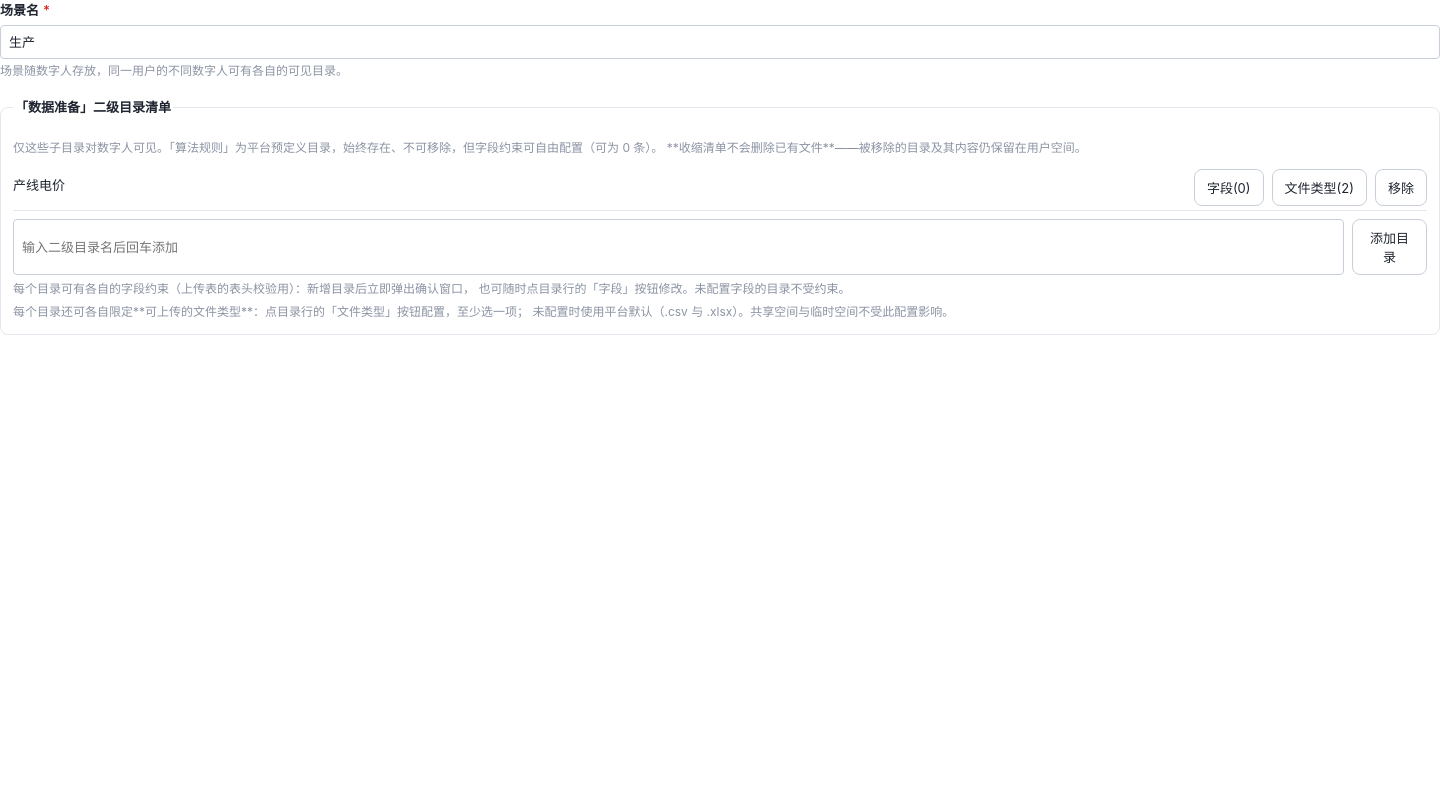
Test case: ScenarioEditor › 字段名非法 / 重复时禁用保存（后端仍是权威判定）
Click the button with test id "field-产线电价" at (1229, 188), box [1194,169,1264,206]
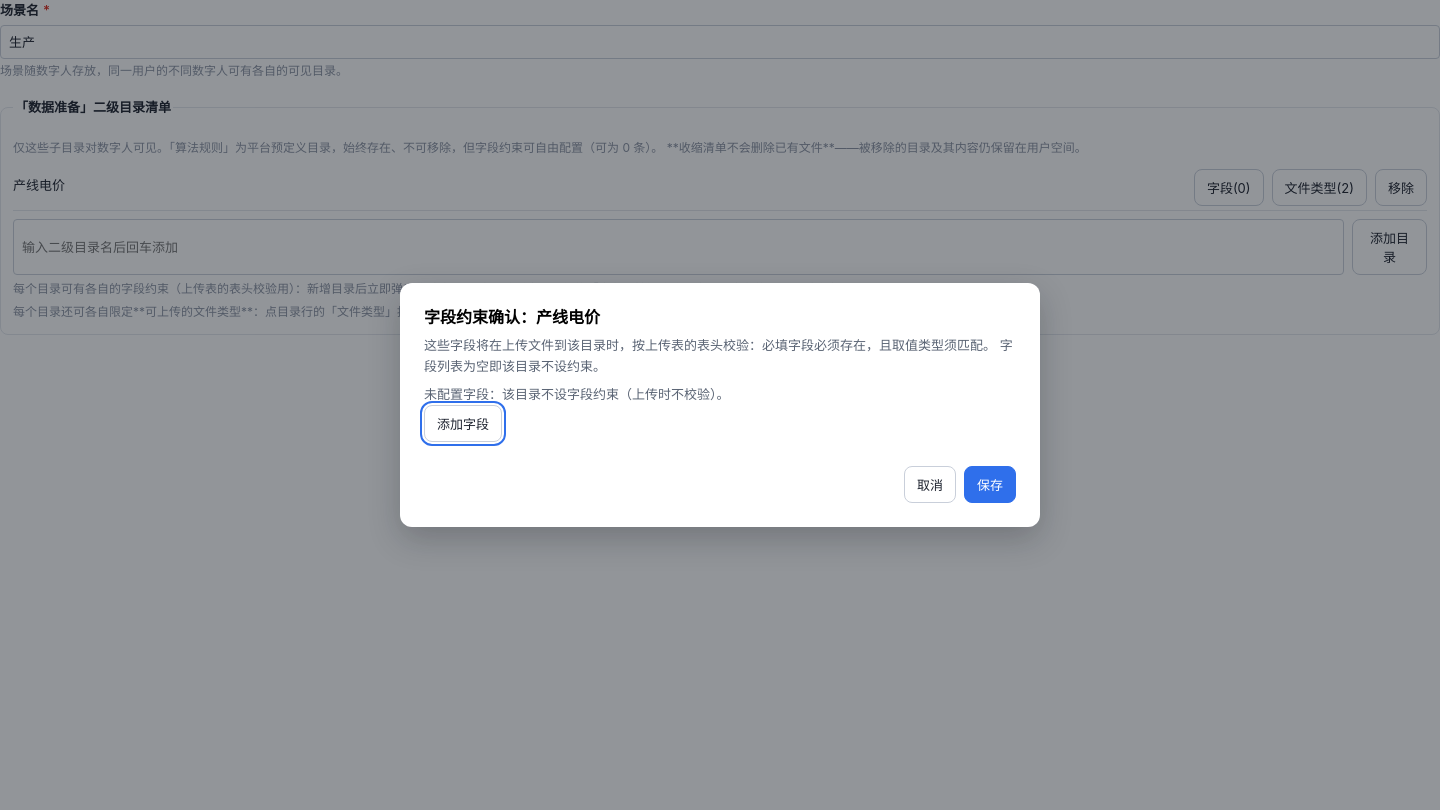
Click the button with test id "add-field" at (463, 424), box [424,405,502,442]
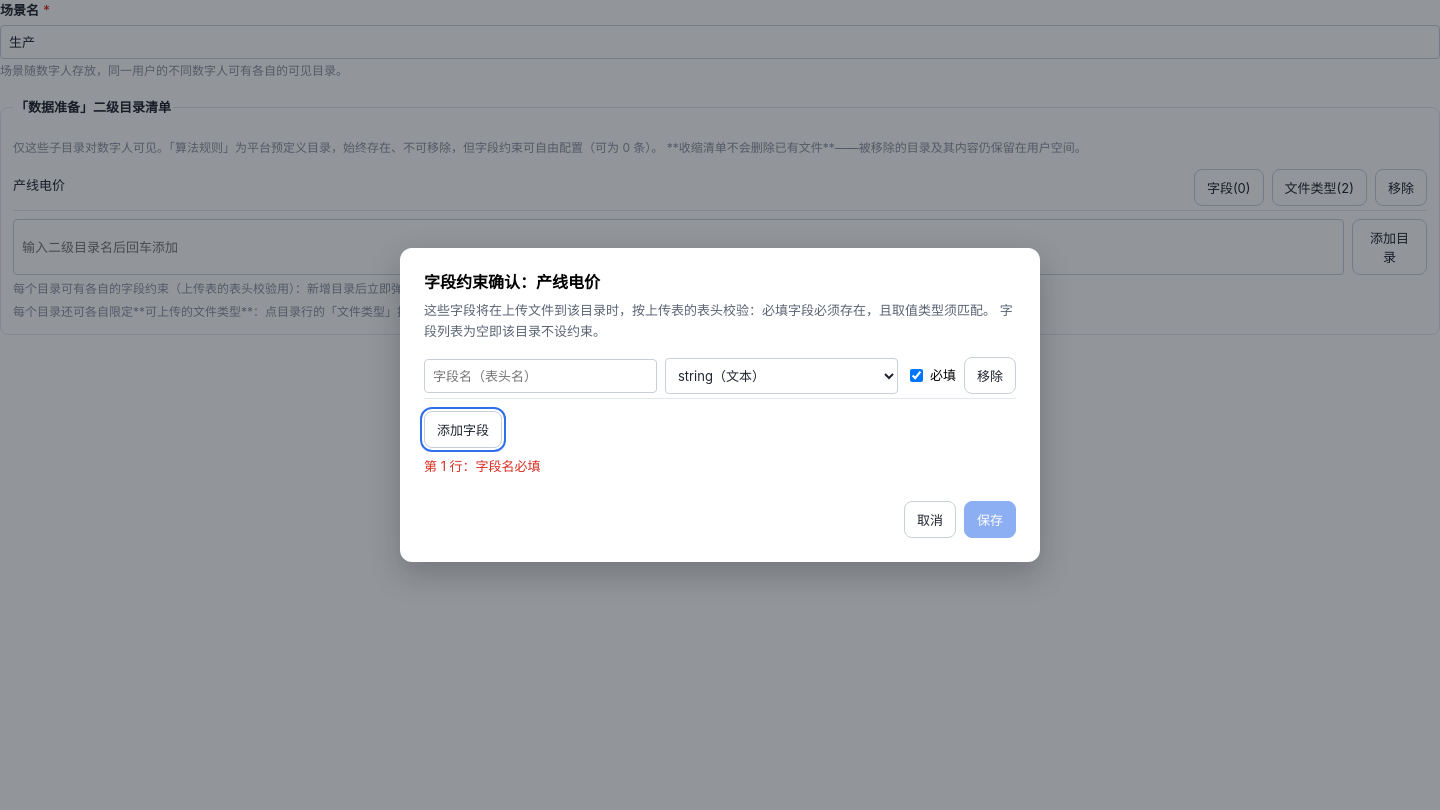
Type "a/b" into the field with placeholder "字段名（表头名）" at (540, 376), box [424,359,657,393]
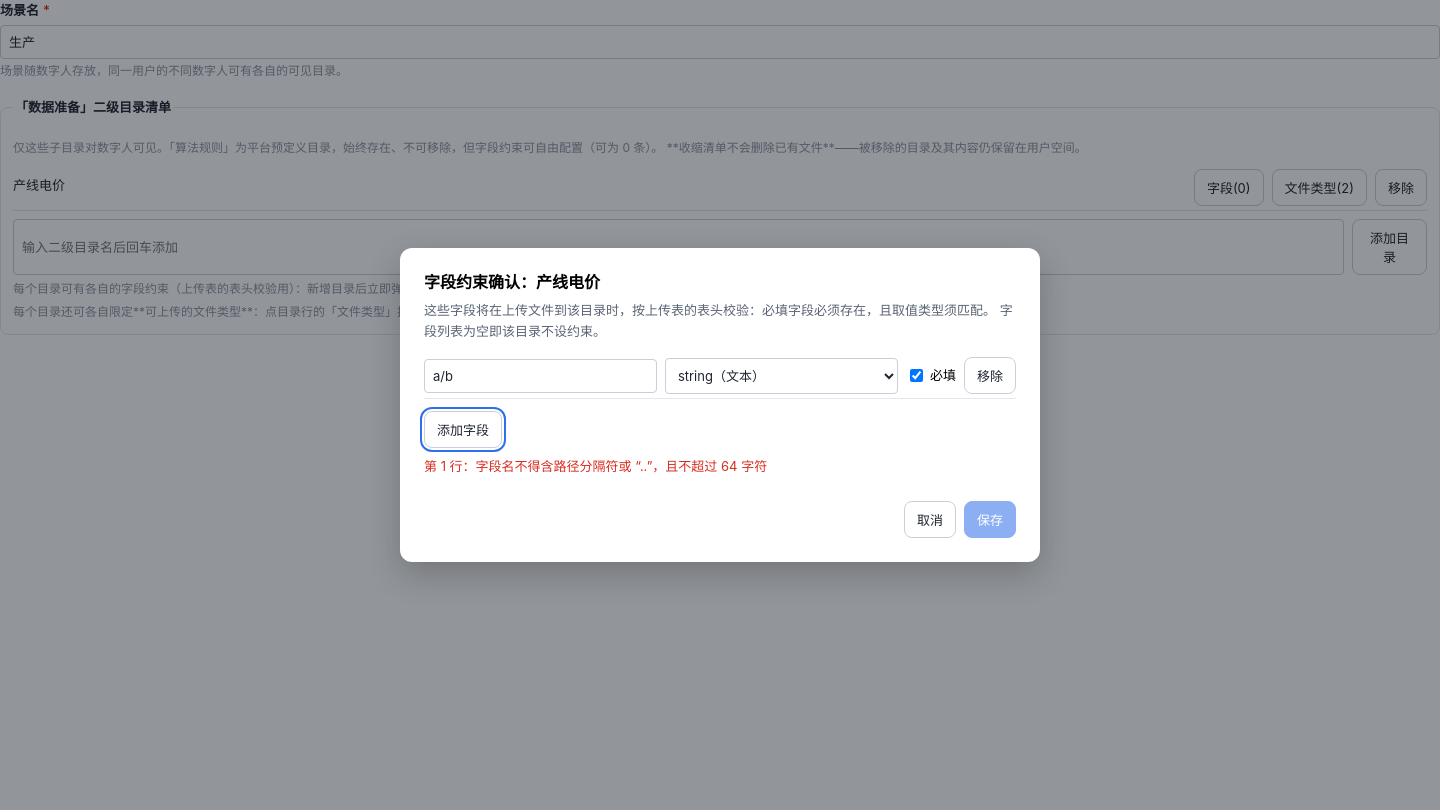
Now the button with test id "save" is disabled, box [964,501,1016,538]
Replace the text in the field with "产线编号" at (540, 376), box [424,359,657,393]
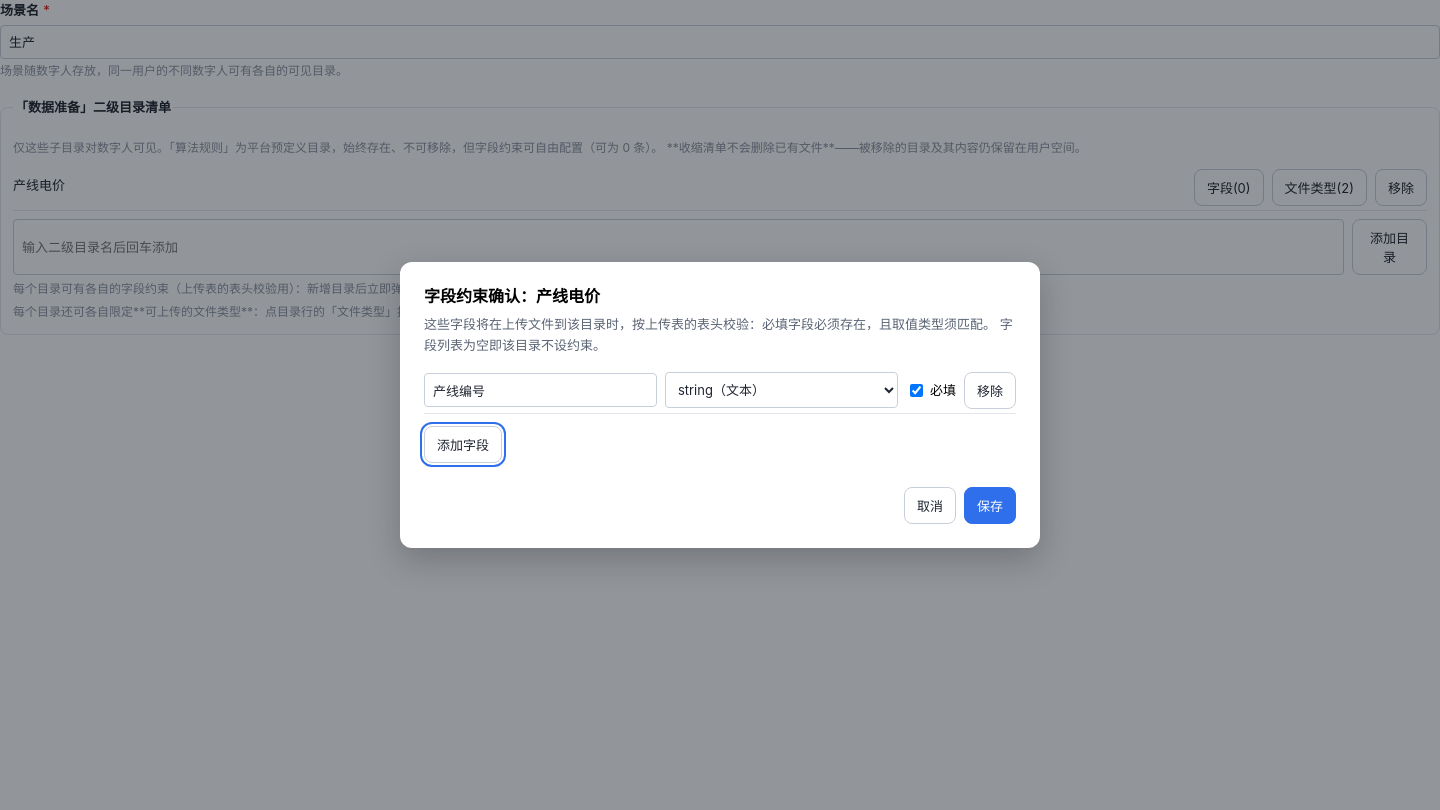
Click the button with test id "add-field" at (463, 444), box [424,426,502,463]
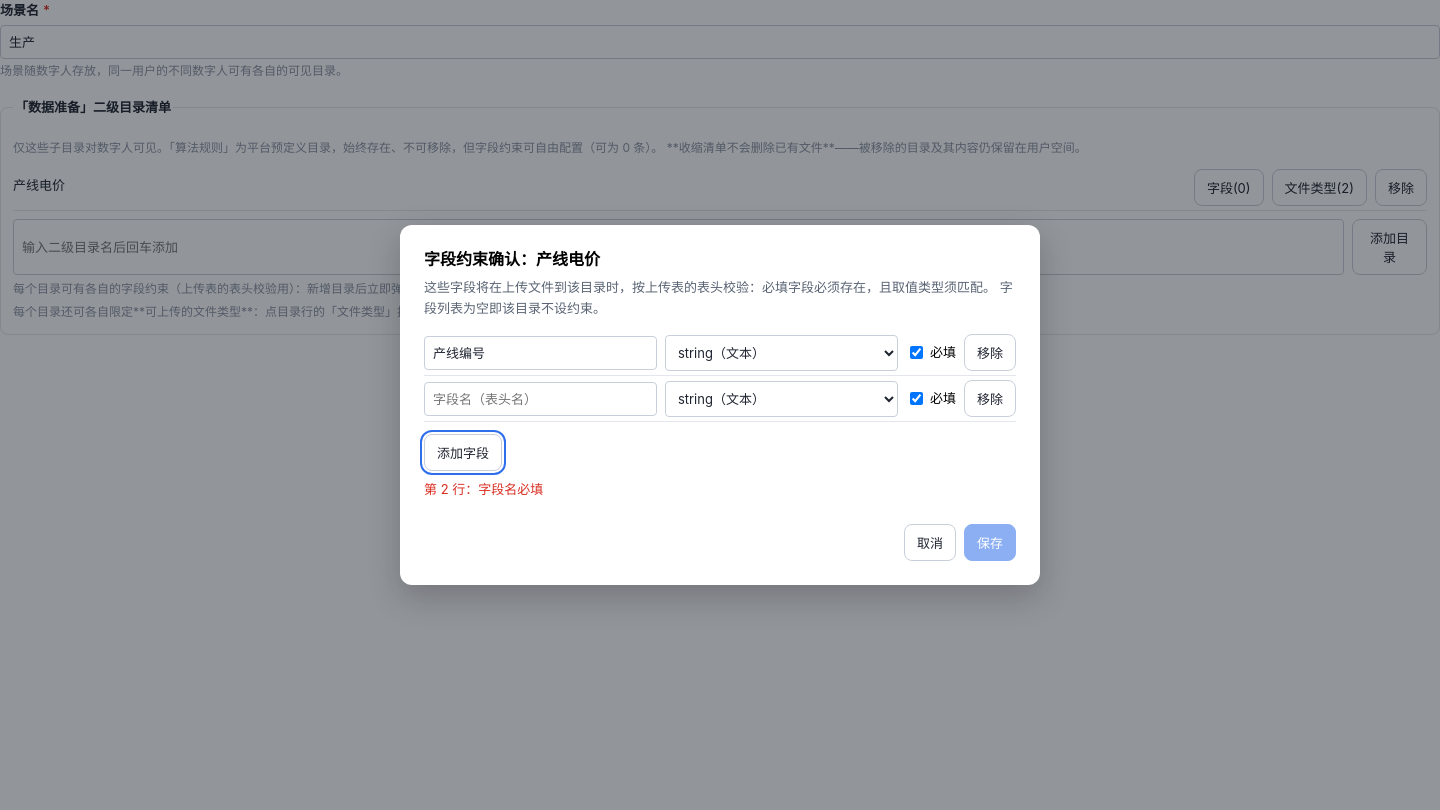
Type "产线编号" into the field with placeholder "字段名（表头名）" at (540, 399), box [424,382,657,416]
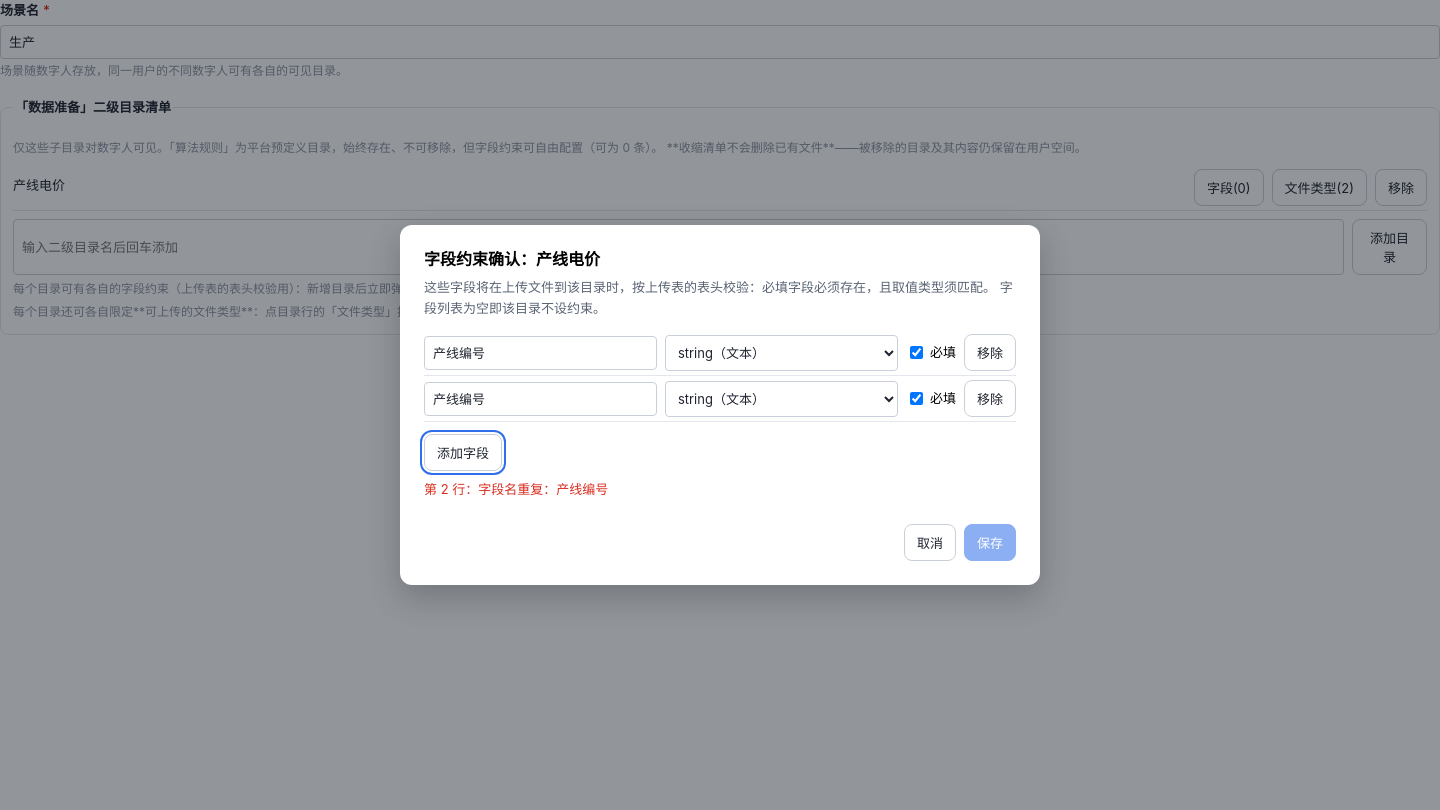
Now the button with test id "save" is disabled, box [964,524,1016,561]
Now the text "字段名重复" is shown, box [424,481,608,497]
